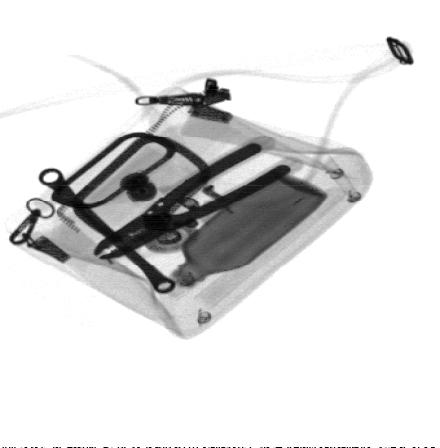Pliers: (91, 142, 293, 261)
Wrench: (38, 167, 177, 294)
